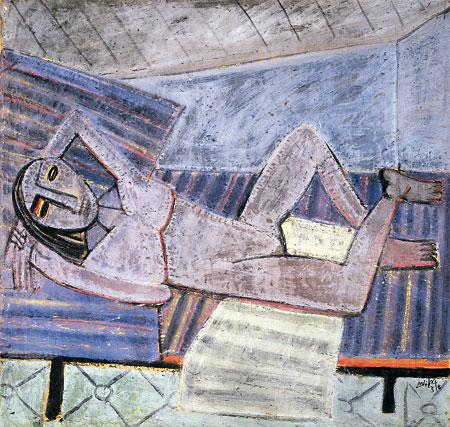person: (5, 106, 444, 317)
